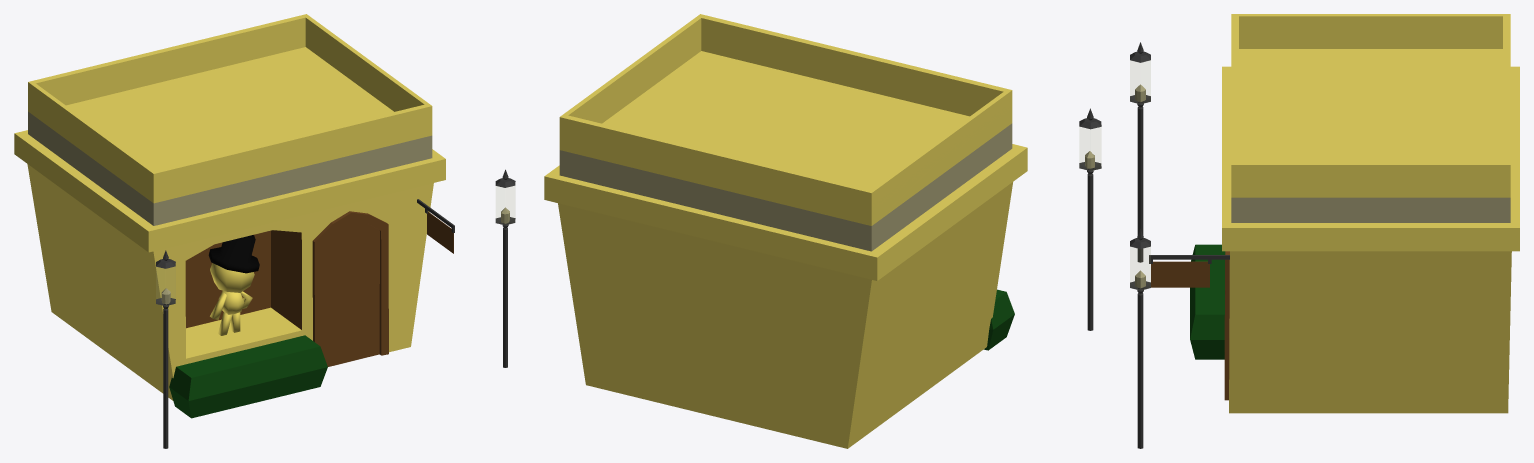
The model's file is LojadeRoupa.fbx.
The picture shows the model from 3 angles, left to right: view 1: azimuth 30°, elevation 25°; view 2: azimuth 150°, elevation 25°; view 3: azimuth 270°, elevation 25°; orthographic projection. The views are drawn at different scales.
Parts seen in each view (by area): view 1: loja, arbusto, postes, manequim, placa; view 2: loja, postes, arbusto; view 3: loja, postes, arbusto, placa.
Part boxes in pixels (x1,y1,x2,y2): loja: (14, 14, 445, 400); arbusto: (169, 335, 327, 418); postes: (156, 169, 515, 448); manequim: (208, 235, 259, 335); placa: (417, 199, 454, 253); loja: (544, 14, 1027, 448); postes: (1079, 108, 1101, 330); arbusto: (984, 289, 1014, 350); loja: (1222, 14, 1519, 413); postes: (1130, 42, 1150, 448); arbusto: (1190, 244, 1225, 359); placa: (1149, 255, 1229, 287).
Bounding box in the file's own units: 11.89 × 7.55 × 10.06.
